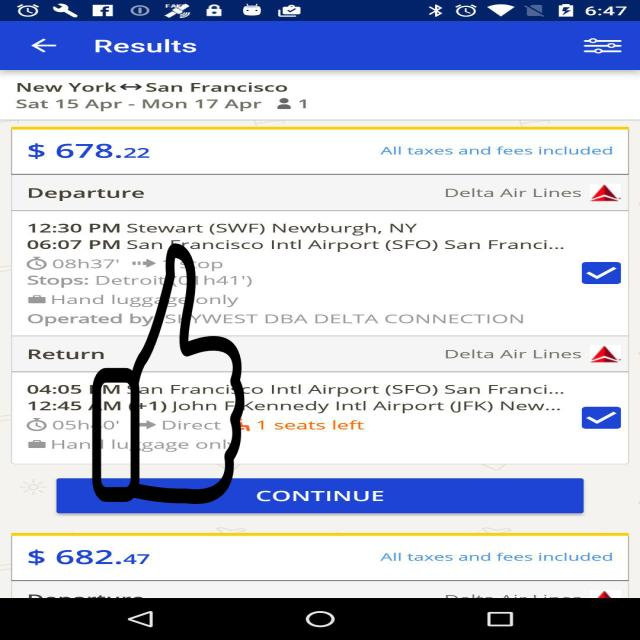privacy zuckering: (90, 243, 247, 504)
